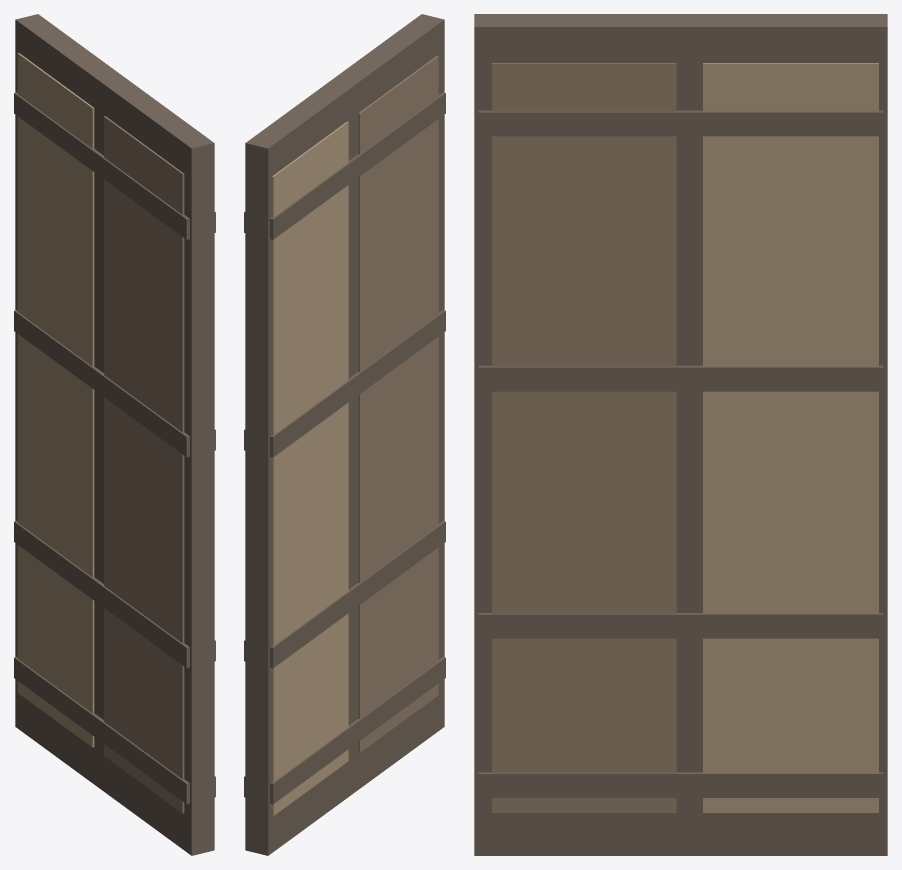
Rendered from door_open.glb.
3 views of the same model, side by side, from view 1: azimuth 30°, elevation 25°; view 2: azimuth 150°, elevation 25°; view 3: azimuth 270°, elevation 25° (orthographic). The views are drawn at different scales.
Parts seen in each view (by area): view 1: wood_dark, wood, wood_light; view 2: wood_dark, wood, wood_light; view 3: wood, wood_dark, wood_light.
Part boxes in pixels (x1,y1,x2,y2): wood_dark: (14,14,215,855); wood: (104,116,184,813); wood_light: (17,53,94,747); wood_dark: (244,14,445,855); wood: (358,55,438,752); wood_light: (272,121,348,815); wood: (492,63,676,812); wood_dark: (474,14,887,855); wood_light: (703,63,878,812).
Size of the model in its own units: 0.09 by 2.08 by 0.94.
